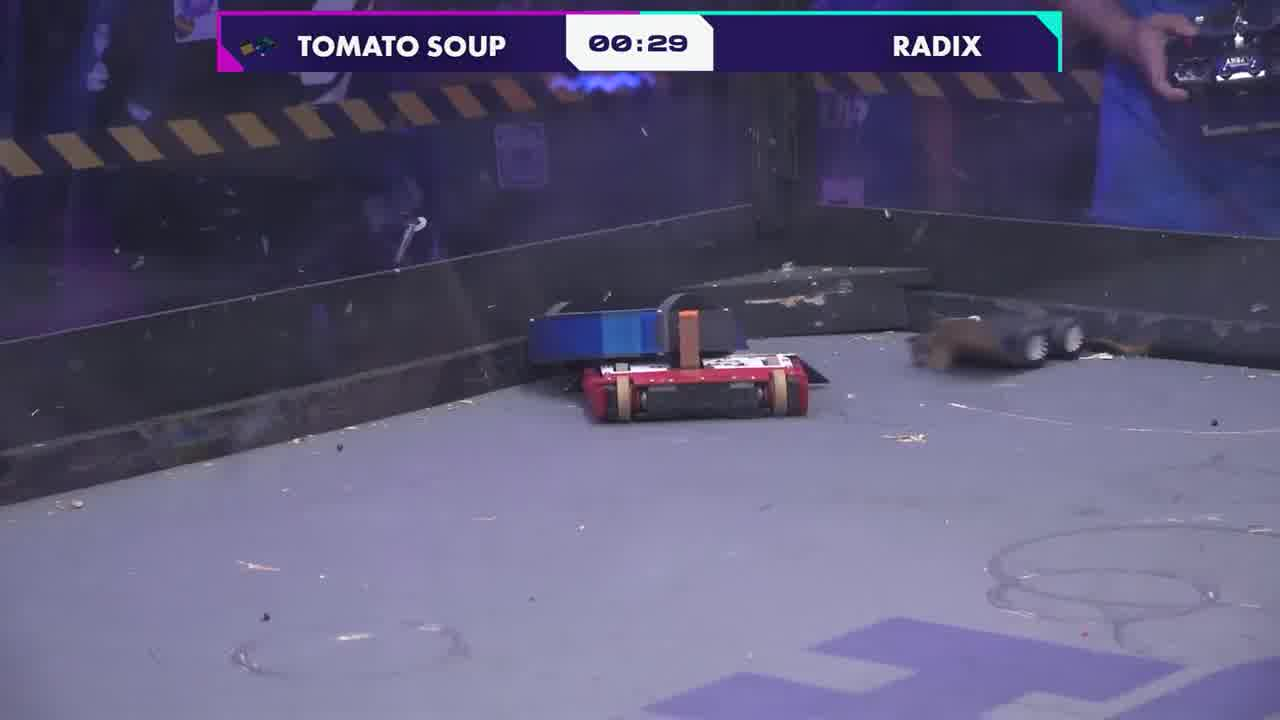combatbot: (577, 356, 831, 426), (524, 289, 747, 366)
minibot: (905, 305, 1090, 372)
